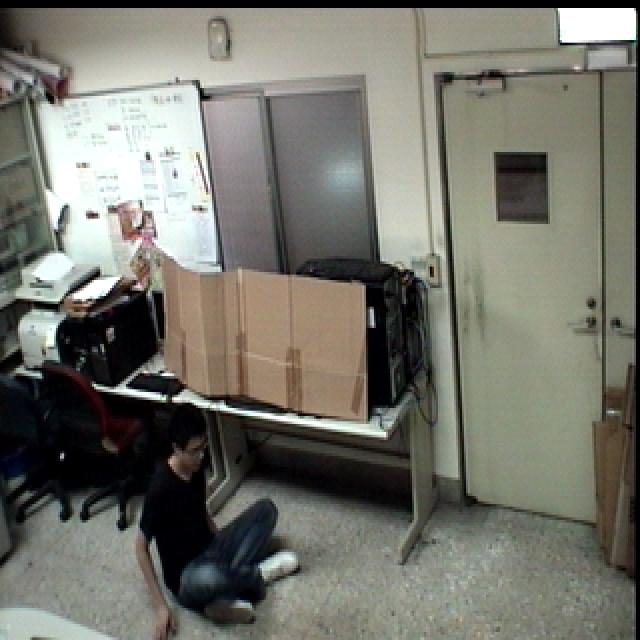sit: (128, 386, 302, 640)
